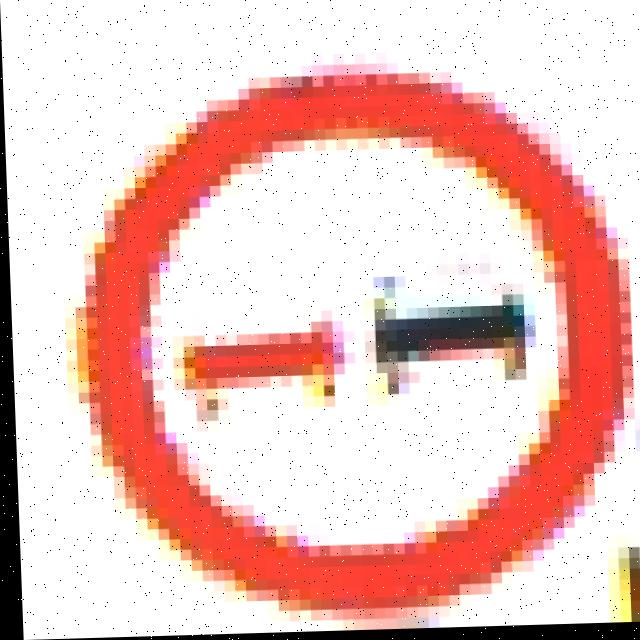no_overtaking: (71, 48, 640, 608)
